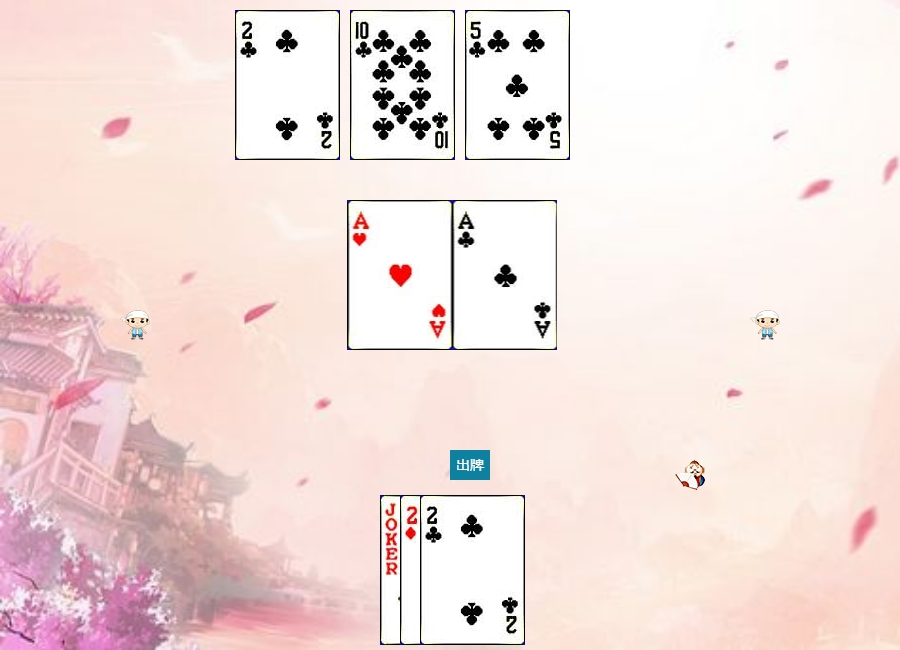10~2: (350, 10, 455, 160)
14~2: (453, 200, 558, 350)
14~3: (348, 200, 453, 350)
15~1: (400, 495, 505, 645)
15~2: (235, 10, 340, 160), (420, 495, 525, 645)
18~4: (380, 495, 485, 645)
5~2: (465, 10, 570, 160)
